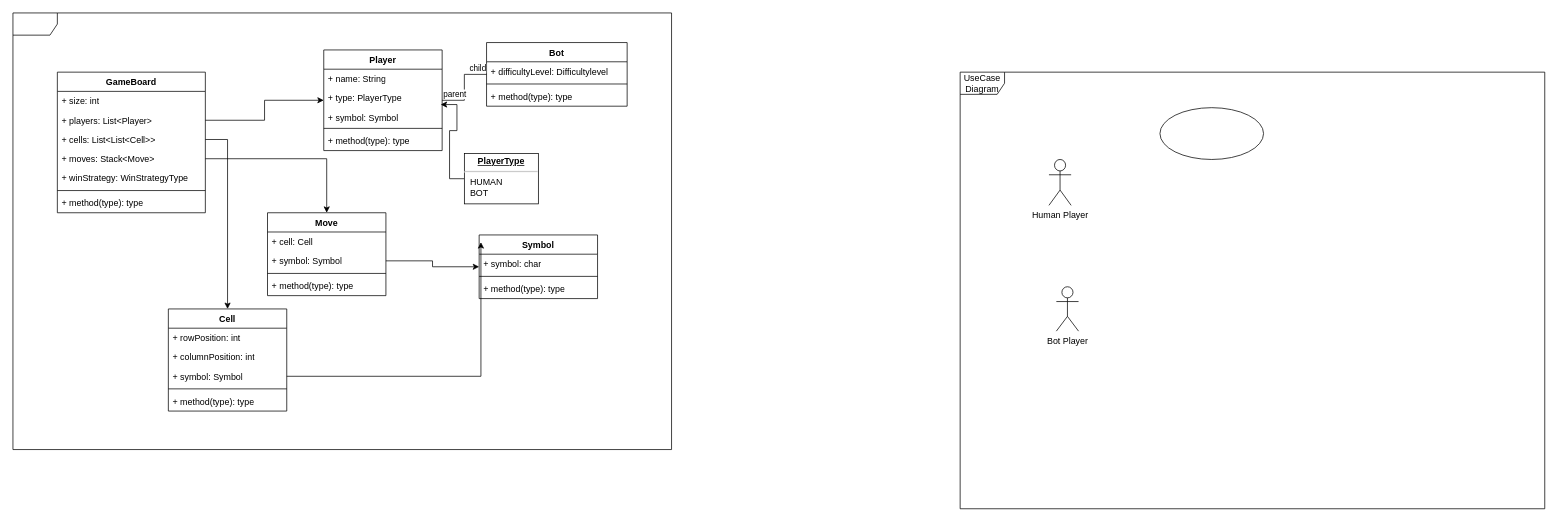
Image size: 1558x522. Some labels were removed from this diagram. The shapes that lost their labels are listed below. From the top down, each one's centre as x and y in pixels, then its label:
At pixel 1211 133: "choosing a symbol".
At pixel 342 231: "Class Diagram".
